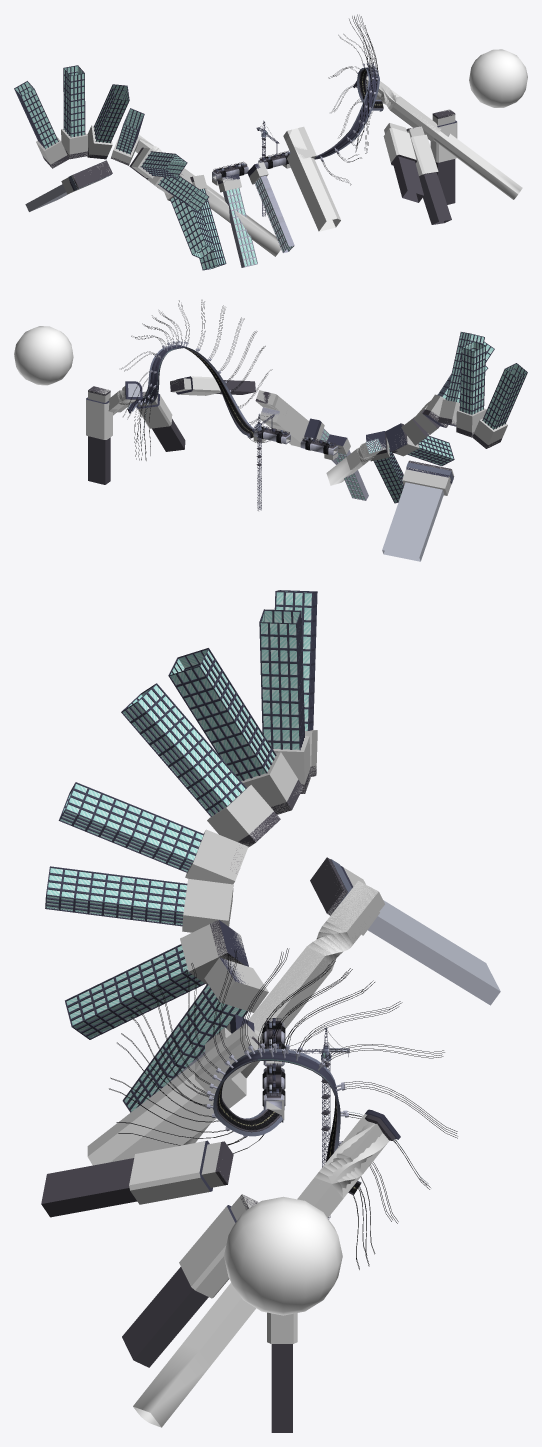
Rendered from Buildings.fbx.
3 views of the same model, one above another, from view 1: azimuth 30°, elevation 25°; view 2: azimuth 150°, elevation 25°; view 3: azimuth 270°, elevation 25° (orthographic). The views are drawn at different scales.
Parts seen in each view (by area): view 1: Eye, FancyRoad Mesh, Building4, TwistyBuilding1, Building2, Building3, Building13, Building14, Building12, Building8, Building1, TwistyBuilding2 (+16 smaller); view 2: Building15, FancyRoad Mesh, Eye, Building1, Building13, Building14, Building2, Building8, Building4, Building3, Building7, Building12 (+15 smaller); view 3: Eye, FancyRoad Mesh, Building3, TwistyBuilding1, Building8, Building12, Building11, Building2, Building4, Building15, Building9, Building10 (+15 smaller).
Part boxes in pixels (box(x1,y1,x2,y2)): Eye: box(469, 49, 527, 107); FancyRoad Mesh: box(314, 14, 383, 185); Building4: box(285, 128, 340, 231); TwistyBuilding1: box(353, 67, 522, 199); Building2: box(406, 126, 451, 224); Building3: box(383, 128, 423, 202); Building13: box(63, 65, 87, 158); Building14: box(14, 81, 68, 168); Building12: box(87, 84, 129, 159); Building8: box(170, 174, 215, 258); Building1: box(430, 110, 457, 204); TwistyBuilding2: box(138, 134, 281, 256); Building15: box(382, 460, 453, 561); FancyRoad Mesh: box(121, 300, 272, 460); Eye: box(14, 326, 73, 385); Building1: box(86, 386, 112, 484); Building13: box(456, 341, 485, 437); Building14: box(472, 363, 527, 448); Building2: box(136, 392, 185, 451); Building8: box(385, 423, 454, 466); Building4: box(255, 391, 308, 447); Building3: box(170, 376, 255, 395); Building7: box(366, 431, 403, 503); Building12: box(438, 332, 484, 426); Eye: box(224, 1196, 342, 1315); FancyRoad Mesh: box(109, 948, 457, 1269); Building3: box(41, 1140, 233, 1217); TwistyBuilding1: box(133, 1109, 400, 1427); Building8: box(65, 920, 248, 1039); Building12: box(168, 648, 303, 814); Building11: box(121, 683, 280, 846); Building2: box(122, 1194, 257, 1367); Building4: box(87, 1028, 260, 1165); Building15: box(310, 857, 500, 1005); Building9: box(45, 866, 187, 926); Building10: box(58, 782, 238, 873).
Size of the model in its own units: 110320 by 46788 by 43555.
